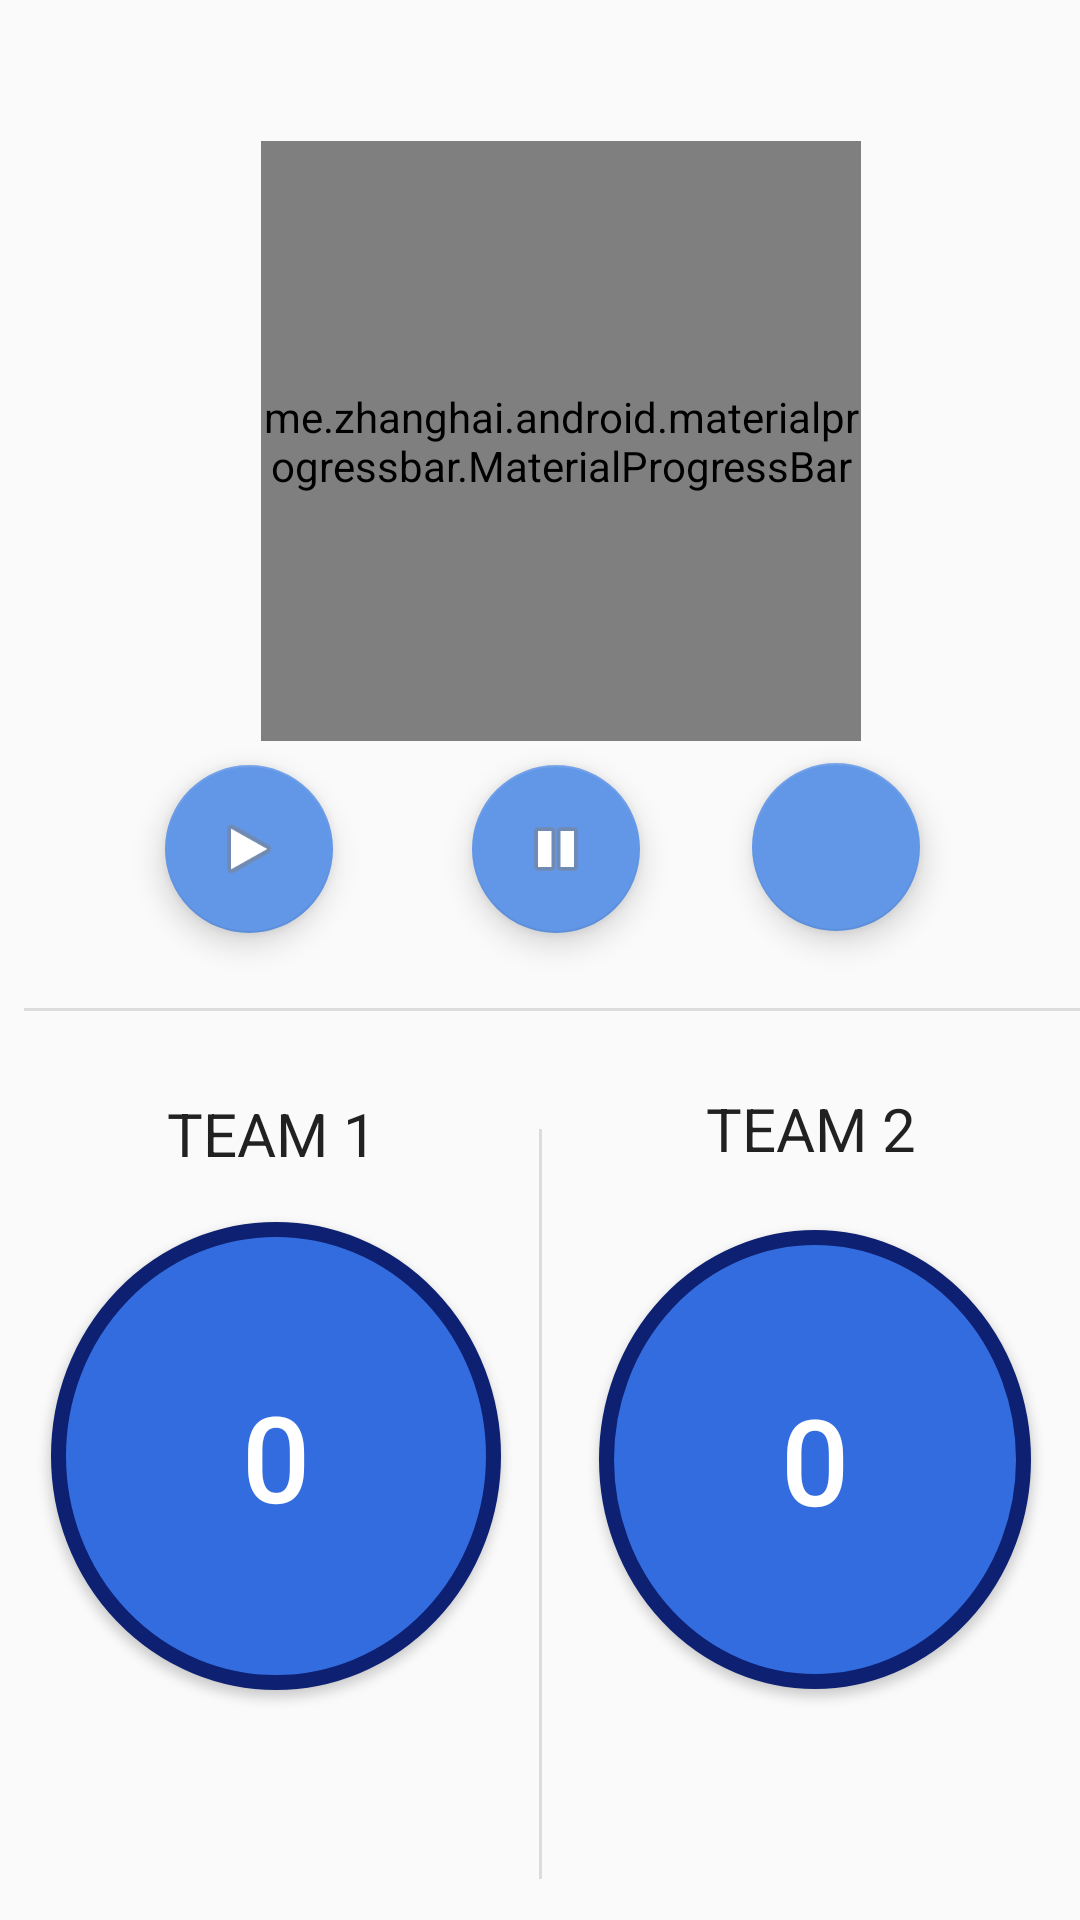

Screen size 1080x1920. Icon name, then its box in pixels as rect(x1, y1, x2, y2):
pause: rect(472, 765, 640, 933)
play: rect(165, 765, 333, 933)
